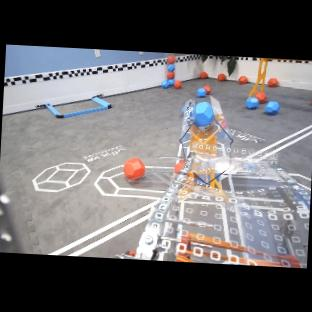Autolimit: (48, 204, 150, 255), (67, 214, 148, 256), (246, 124, 312, 158), (268, 129, 312, 153)
Goal: (248, 57, 312, 97)
Loader: (165, 52, 176, 85)
Low_goal: (127, 156, 183, 189), (229, 170, 272, 190), (216, 172, 232, 190)
Med_goal: (178, 96, 232, 185)
Parking - B: (36, 94, 111, 118)
Robot: (115, 145, 310, 268)
V5_BLUE: (194, 101, 214, 126), (265, 101, 279, 114), (245, 97, 258, 109), (161, 78, 175, 88), (196, 87, 206, 97), (167, 64, 174, 71), (181, 106, 185, 113), (216, 177, 219, 179)
V5_RED: (122, 158, 144, 179), (174, 160, 184, 174), (254, 92, 266, 103), (267, 77, 277, 87), (238, 75, 247, 84), (203, 85, 211, 94), (173, 80, 181, 88), (217, 73, 225, 81), (167, 55, 174, 64), (199, 72, 207, 78), (167, 72, 174, 78)
blueingoal: (194, 101, 214, 127), (198, 174, 209, 182), (215, 176, 219, 180)
blueinrobot: (167, 78, 174, 86), (167, 64, 174, 72)
redingoal: (122, 158, 144, 180), (173, 161, 184, 174)
redloader: (167, 55, 175, 64), (166, 71, 174, 79)
